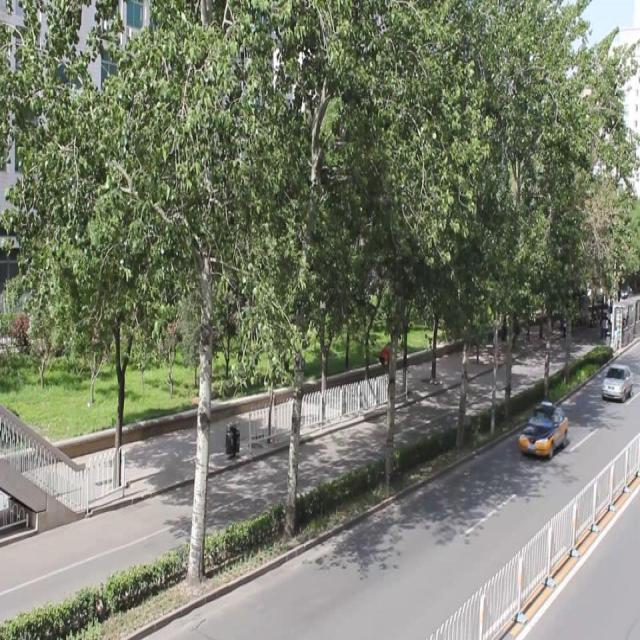car: (518, 399, 566, 454), (600, 360, 631, 399)
